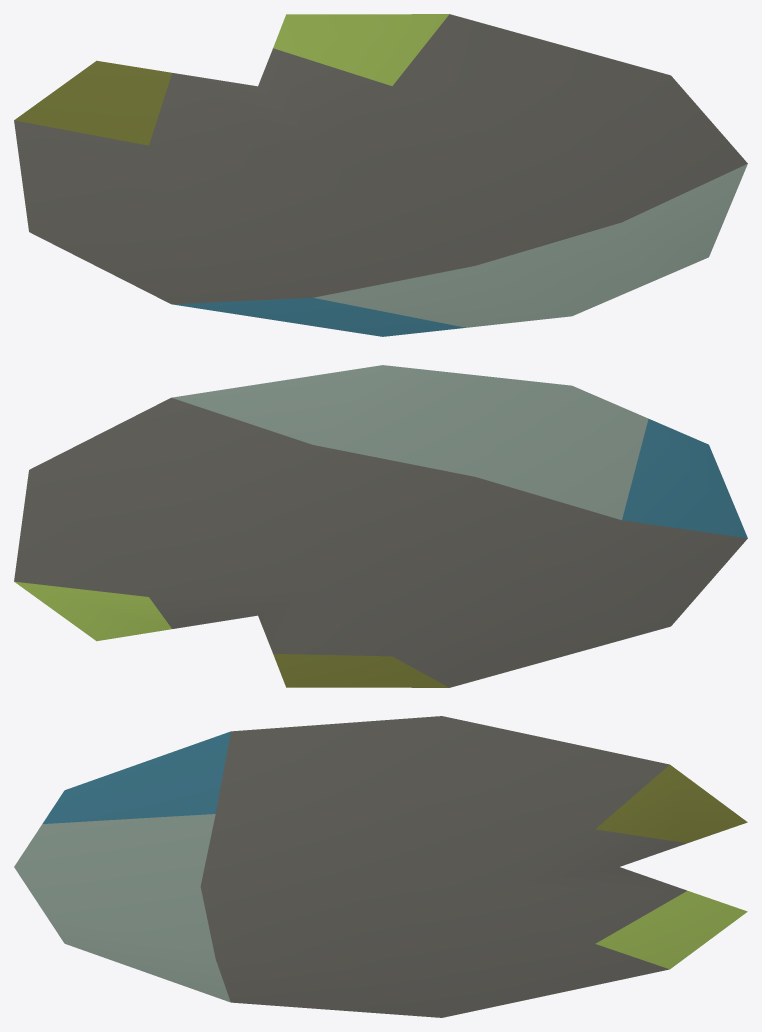
Rendered from itch_assetquest_pond_water_lily_leaf_4.glb.
3 views of the same model, one above another, from view 1: azimuth 30°, elevation 25°; view 2: azimuth 150°, elevation 25°; view 3: azimuth 270°, elevation 25° (orthographic). The views are drawn at different scales.
Parts seen in each view (by area): view 1: Water_Lily_Leaf_4; view 2: Water_Lily_Leaf_4; view 3: Water_Lily_Leaf_4.
Part boxes in pixels (x1,y1,x2,y2): Water_Lily_Leaf_4: (14, 14, 747, 336); Water_Lily_Leaf_4: (14, 365, 747, 687); Water_Lily_Leaf_4: (14, 716, 747, 1017).
Size of the model in its own units: 0.9345 by 0.0283 by 0.96.
